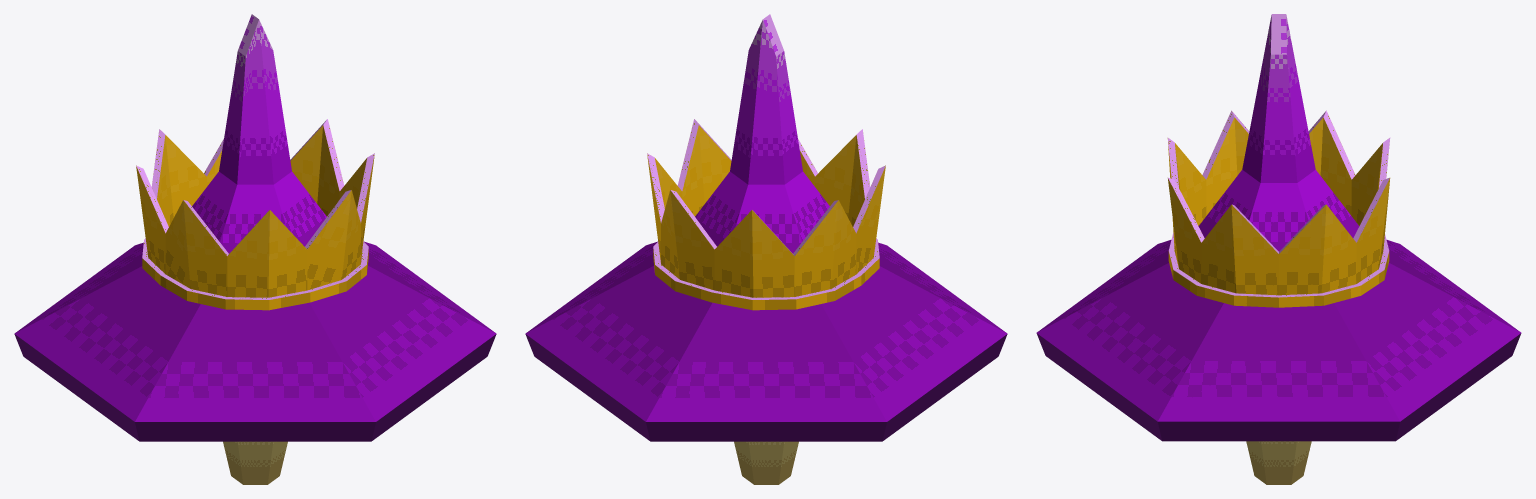
Rendered from Mesh_ChampiReine.glb.
The picture shows the model from 3 angles, left to right: view 1: azimuth 30°, elevation 25°; view 2: azimuth 150°, elevation 25°; view 3: azimuth 270°, elevation 25°; orthographic projection.
Parts seen in each view (by area): view 1: Mesh_ChampiReine; view 2: Mesh_ChampiReine; view 3: Mesh_ChampiReine.
Part boxes in pixels (<box>): Mesh_ChampiReine: <box>14,14,496,484</box>; Mesh_ChampiReine: <box>525,14,1007,484</box>; Mesh_ChampiReine: <box>1036,14,1521,484</box>.
Size of the model in its own units: 0.5151 by 0.625 by 0.5948.
1 material, 1 textured.
